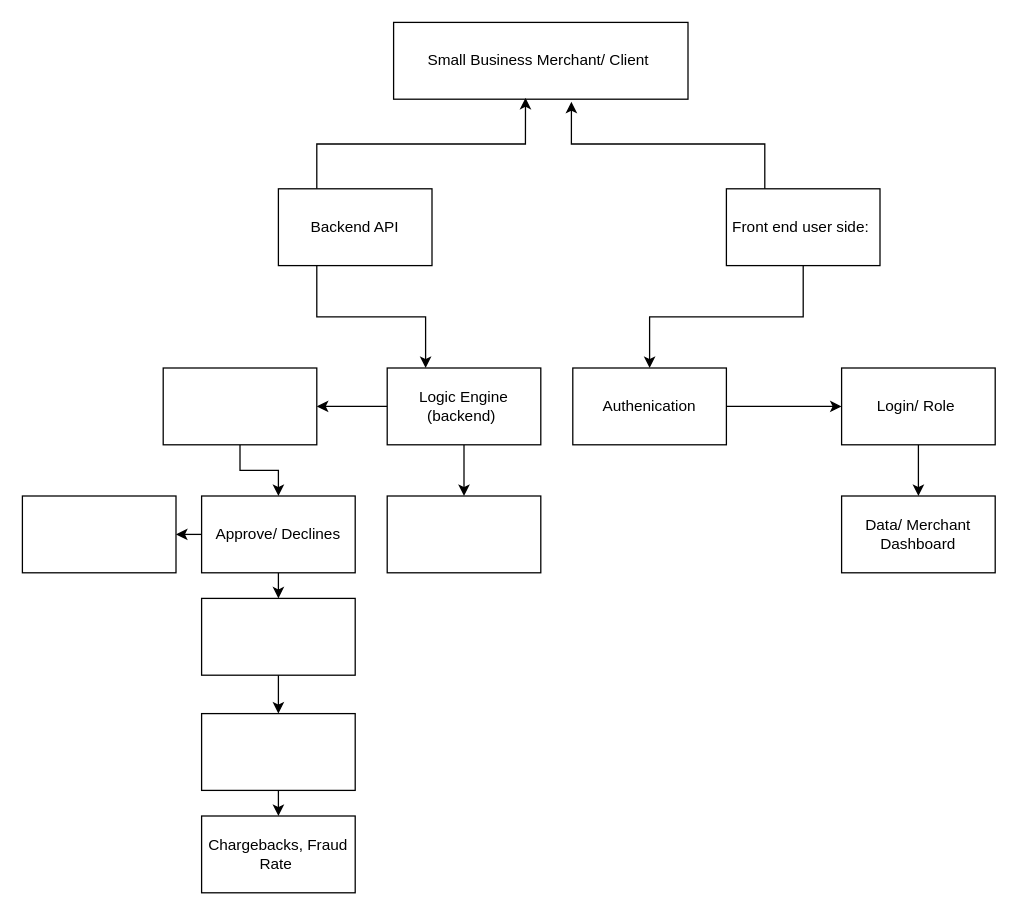
This 1018x915 diagram has some shape labels left out. Here are the shapes that lost their labels. From the top down, the centre of each, then its label:
At [239,406]: "Risk scores".
At [98,534]: "Reviews".
At [463,534]: "Auto Filters Orders".
At [277,636]: "Documentation".
At [277,751]: "MySQL Database".
